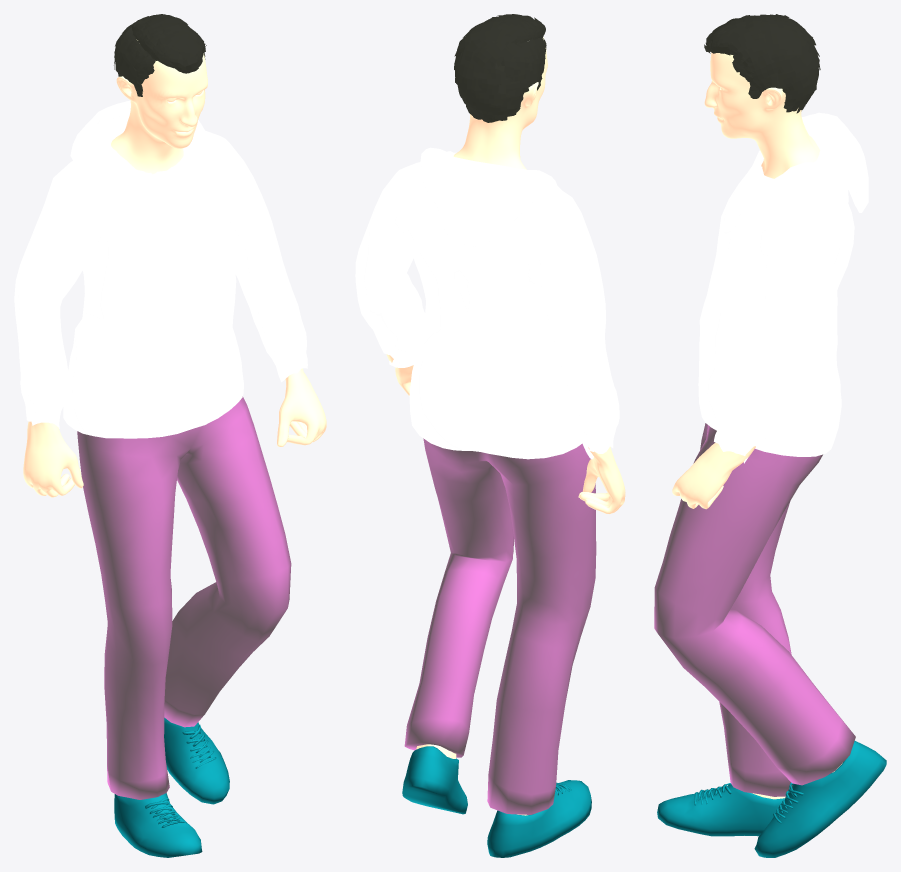
File: Man_09_Walking-transformed.glb
3 renders of one model, left to right at view 1: azimuth 30°, elevation 25°; view 2: azimuth 150°, elevation 25°; view 3: azimuth 270°, elevation 25°, orthographic. The views are drawn at different scales.
Parts seen in each view (by area): view 1: Top.002, Bottoms.002, Body.002, Shoes.002, Hair.002; view 2: Top.002, Bottoms.002, Hair.002, Shoes.002, Body.002; view 3: Top.002, Bottoms.002, Shoes.002, Body.002, Hair.002.
Boxes of the visible parts, x1,y1,x2,y2 form: Top.002: (14, 100, 307, 438); Bottoms.002: (77, 396, 291, 799); Body.002: (23, 39, 326, 497); Shoes.002: (114, 717, 229, 857); Hair.002: (114, 14, 206, 96); Top.002: (355, 147, 619, 459); Bottoms.002: (404, 438, 596, 814); Hair.002: (454, 14, 546, 122); Shoes.002: (402, 746, 591, 857); Body.002: (386, 37, 625, 815); Top.002: (698, 112, 868, 463); Bottoms.002: (654, 423, 855, 796); Shoes.002: (657, 741, 886, 857); Body.002: (672, 52, 842, 799); Hair.002: (704, 14, 820, 113).
Bounding box in the file's own units: 0.605 × 1.79 × 0.4589.
